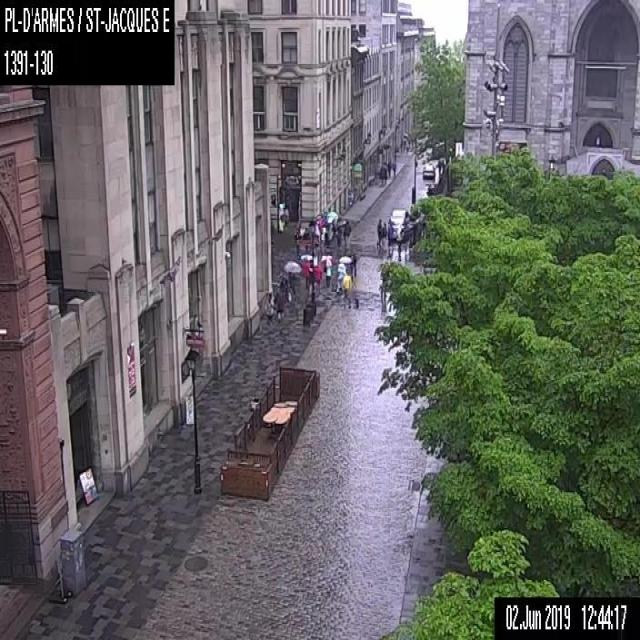pedestrian: (342, 269, 358, 310), (263, 292, 273, 325), (274, 290, 284, 321), (343, 219, 350, 247), (378, 277, 386, 301), (377, 217, 382, 247), (381, 222, 386, 248), (395, 241, 401, 259), (387, 158, 391, 177)
vehicle: (387, 216, 408, 241), (389, 208, 409, 220), (422, 161, 434, 179)
